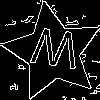W: (27, 27, 81, 79)
